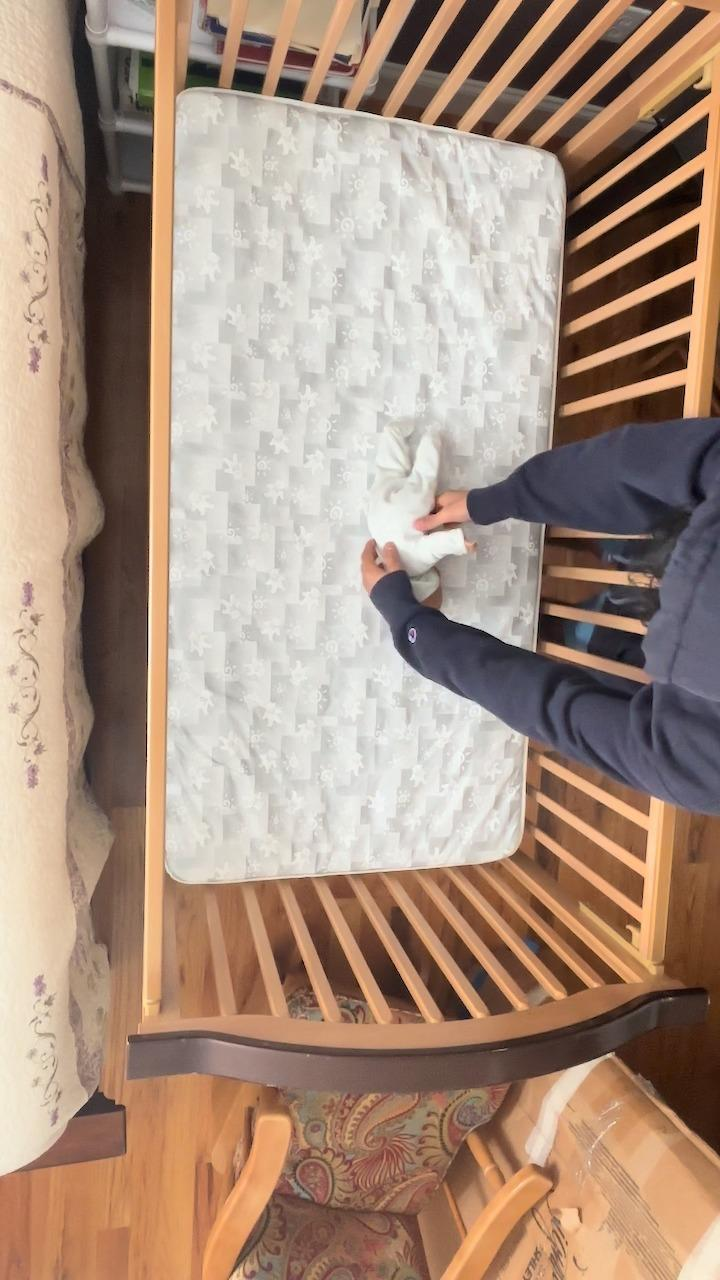baby: (354, 418, 480, 628)
